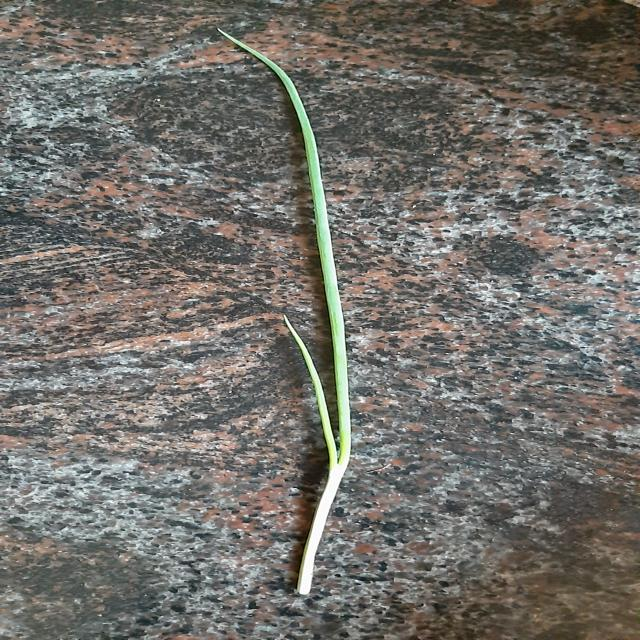onion: (219, 30, 352, 595)
